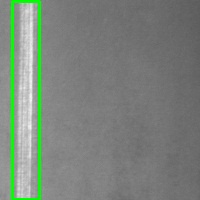scratches: (12, 1, 39, 199)
